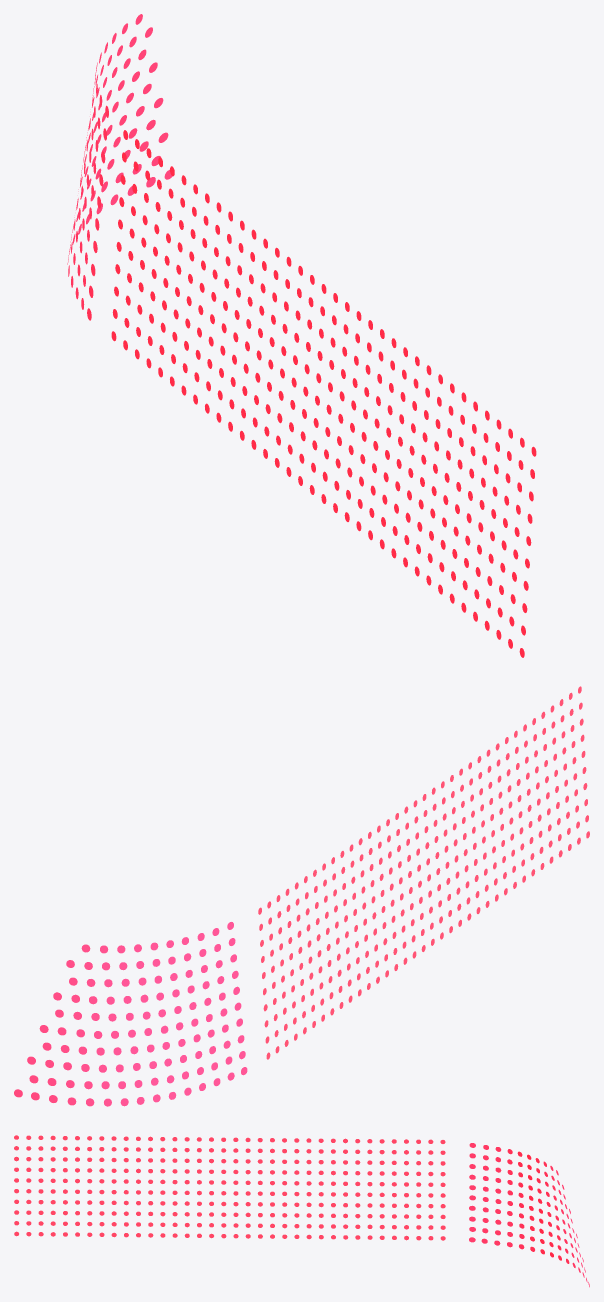
The model's file is light.glb.
3 views of the same model, one above another, from view 1: azimuth 30°, elevation 25°; view 2: azimuth 150°, elevation 25°; view 3: azimuth 270°, elevation 25° (orthographic). The views are drawn at different scales.
Visible parts, largest first — view 1: Plane002, Plane027; view 2: Plane002, Plane027; view 3: Plane002, Plane027.
Boxes of the visible parts, x1=… form: Plane002: x1=111, y1=130, x2=536, y2=657; Plane027: x1=67, y1=14, x2=172, y2=320; Plane002: x1=258, y1=686, x2=589, y2=1059; Plane027: x1=14, y1=922, x2=247, y2=1106; Plane002: x1=14, y1=1135, x2=445, y2=1240; Plane027: x1=469, y1=1143, x2=589, y2=1287.
Size of the model in its own units: 0.1069 by 0.0953 by 0.4726.
